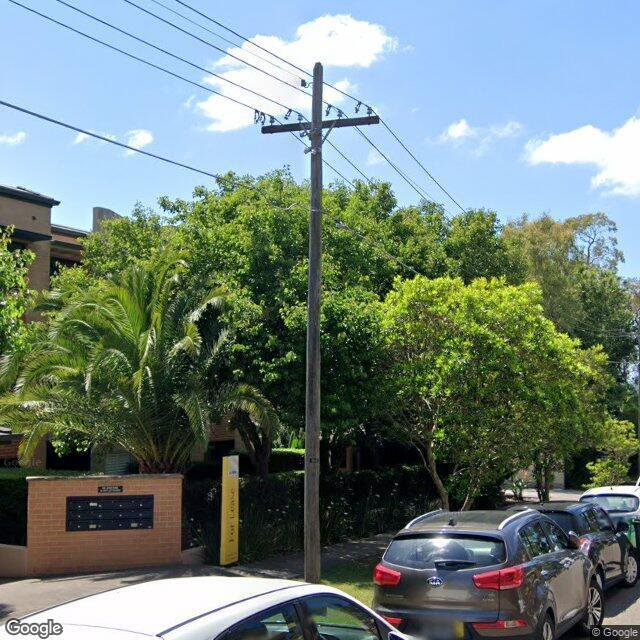crossarm: (258, 114, 382, 136)
timber-pole: (304, 62, 326, 584)
